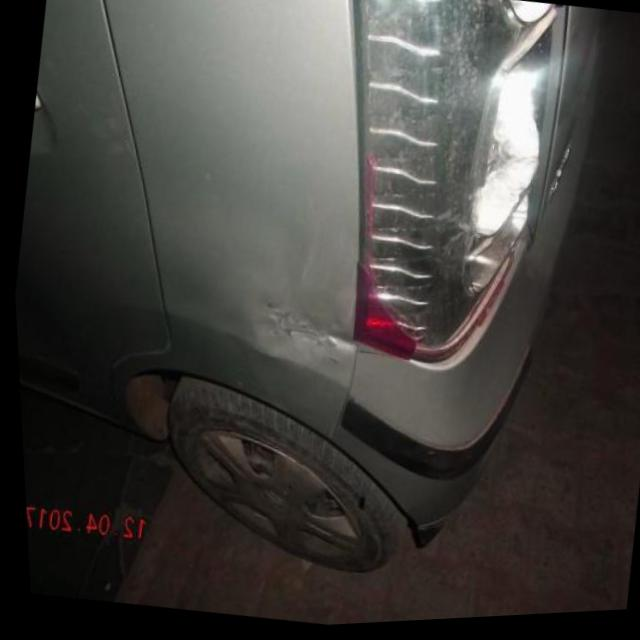Car-Damage: (293, 0, 579, 381), (239, 289, 359, 372)
